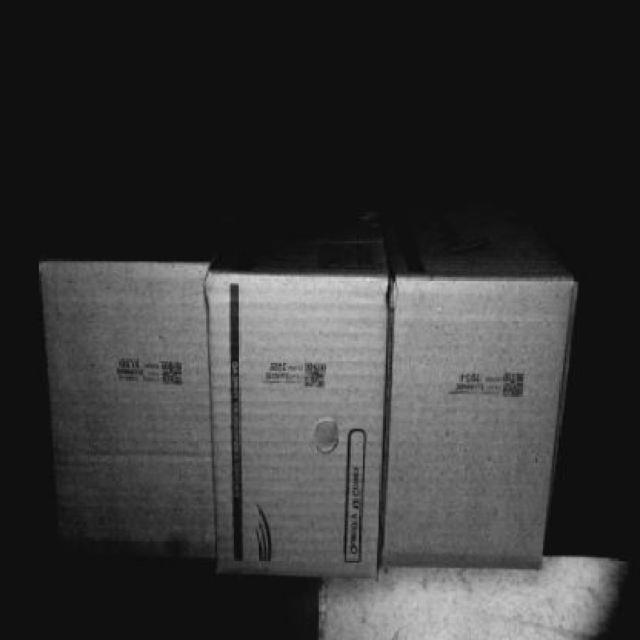cardboxes: (378, 274, 577, 575), (212, 273, 382, 582), (38, 268, 205, 548)
